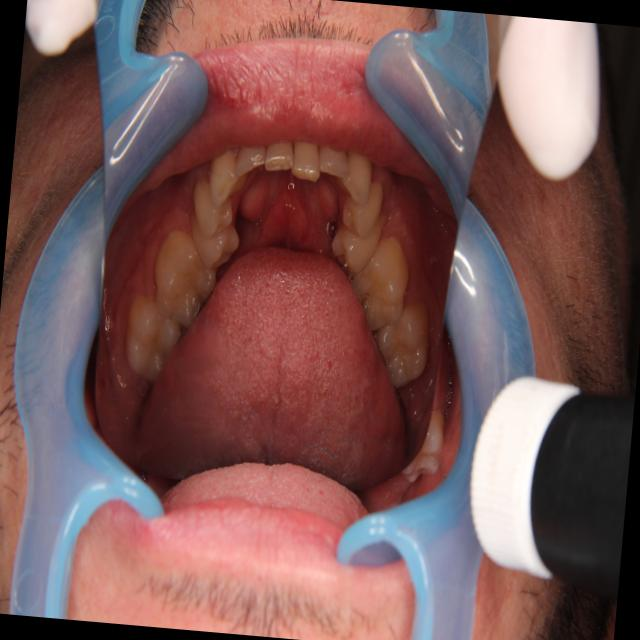tooth: (146, 219, 221, 335), (338, 230, 414, 338), (119, 285, 187, 391), (367, 291, 435, 396), (325, 209, 387, 281), (181, 204, 245, 272), (331, 175, 390, 242), (186, 173, 238, 243), (202, 149, 255, 214), (333, 145, 380, 212), (284, 130, 327, 194), (311, 133, 356, 187), (256, 130, 300, 182), (228, 133, 269, 183)
